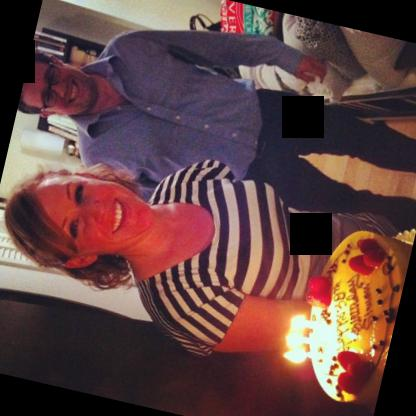handbag: (190, 14, 241, 77), (222, 0, 274, 35)
